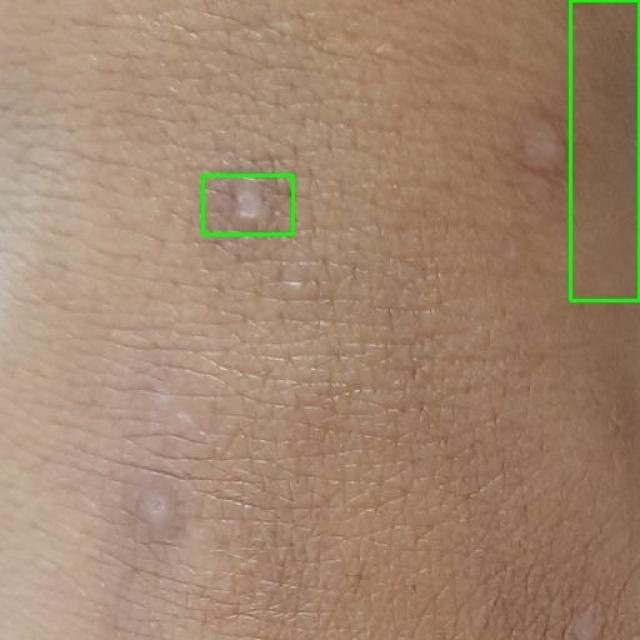Scabies: (570, 0, 639, 300), (202, 175, 292, 234)
